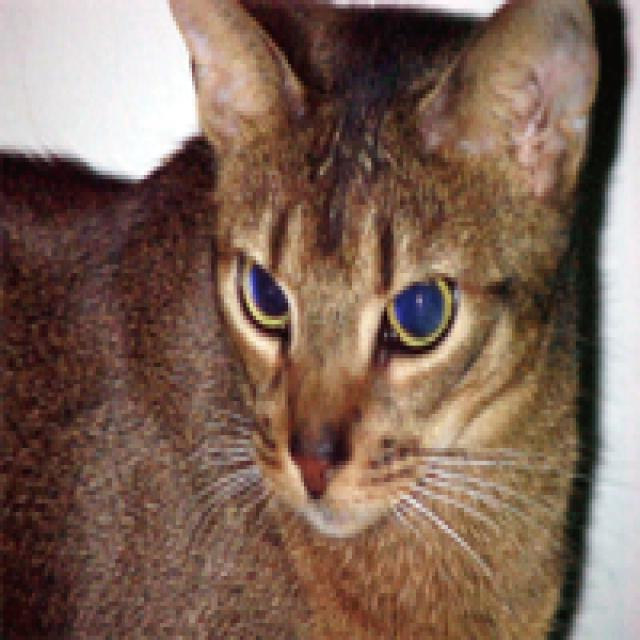Abyssinian: (166, 0, 604, 542)
